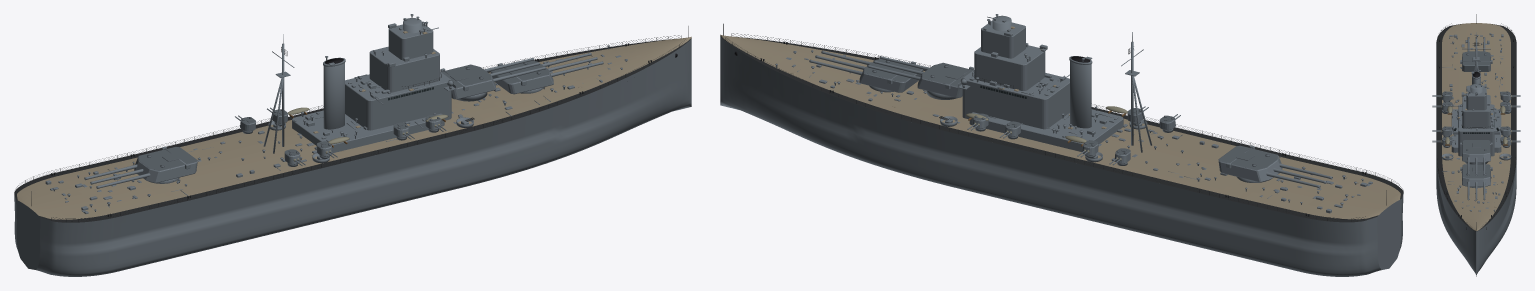
The model's file is south_dakota.glb.
The picture shows the model from 3 angles, left to right: view 1: azimuth 30°, elevation 25°; view 2: azimuth 150°, elevation 25°; view 3: azimuth 270°, elevation 25°; orthographic projection. The views are drawn at different scales.
Parts seen in each view (by area): view 1: south_dakota, T_2_malla, T_1_malla, T_0_malla, C_2, C_0, C_1; view 2: south_dakota, T_2_malla, T_1_malla, T_0_malla, C_2, C_0, C_1; view 3: south_dakota, T_1_malla, T_0_malla, T_2_malla, C_0, C_1, T_9_malla, T_10_malla, C_2, T_5_malla, T_6_malla, T_7_malla (+3 smaller).
Part boxes in pixels (x1=…): south_dakota: x1=14, y1=14, x2=691, y2=276; T_2_malla: x1=134, y1=146, x2=197, y2=183; T_1_malla: x1=440, y1=64, x2=496, y2=99; T_0_malla: x1=490, y1=60, x2=553, y2=94; C_2: x1=84, y1=164, x2=150, y2=188; C_0: x1=542, y1=52, x2=603, y2=76; C_1: x1=484, y1=58, x2=545, y2=81; south_dakota: x1=720, y1=14, x2=1403, y2=276; T_2_malla: x1=1218, y1=145, x2=1282, y2=182; T_1_malla: x1=917, y1=62, x2=973, y2=97; T_0_malla: x1=859, y1=59, x2=923, y2=92; C_2: x1=1266, y1=163, x2=1332, y2=188; C_0: x1=809, y1=50, x2=871, y2=75; C_1: x1=867, y1=56, x2=929, y2=80; south_dakota: x1=1436, y1=14, x2=1516, y2=276; T_1_malla: x1=1460, y1=140, x2=1492, y2=162; T_0_malla: x1=1460, y1=164, x2=1492, y2=186; T_2_malla: x1=1460, y1=51, x2=1492, y2=71; C_0: x1=1467, y1=181, x2=1485, y2=200; C_1: x1=1467, y1=157, x2=1485, y2=175; T_9_malla: x1=1441, y1=91, x2=1452, y2=100; T_10_malla: x1=1500, y1=91, x2=1511, y2=100; C_2: x1=1467, y1=37, x2=1485, y2=51; T_5_malla: x1=1441, y1=126, x2=1452, y2=135; T_6_malla: x1=1500, y1=126, x2=1511, y2=135; T_7_malla: x1=1441, y1=101, x2=1452, y2=110.
Size of the model in its own units: 207 by 51.5 by 36.26.
